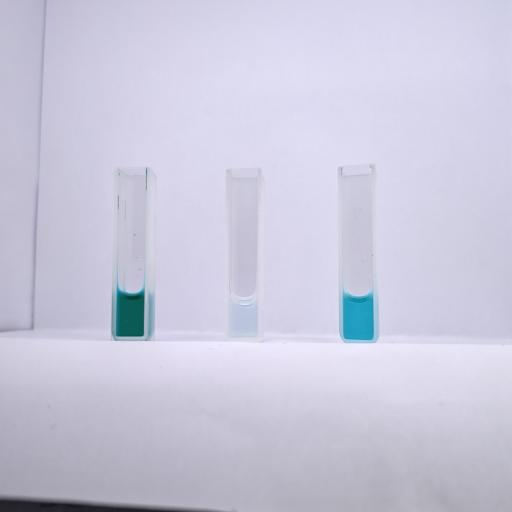cuvette: (336, 162, 381, 344), (110, 164, 152, 342), (224, 166, 265, 342)
liquid: (343, 293, 374, 339), (116, 289, 144, 336), (229, 296, 257, 336)
